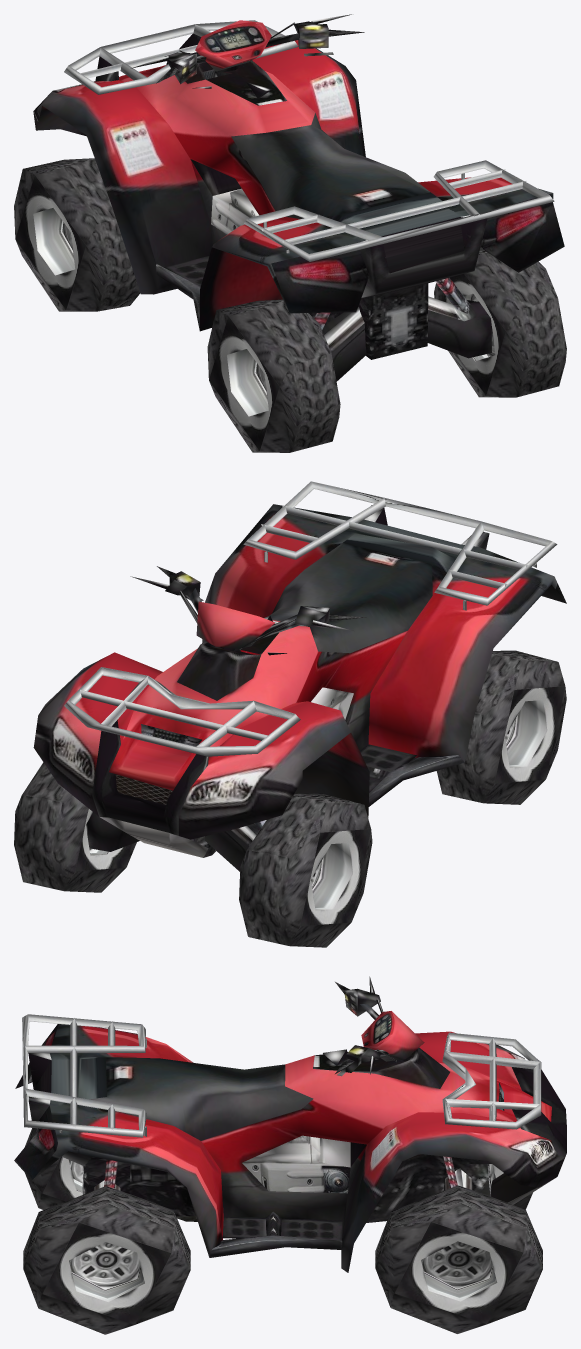
Rendered from ATV0.3.glb.
3 renders of one model, top to bottom at view 1: azimuth 30°, elevation 25°; view 2: azimuth 150°, elevation 25°; view 3: azimuth 270°, elevation 25°, orthographic. The views are drawn at different scales.
Parts seen in each view (by area): view 1: ATV; view 2: ATV; view 3: ATV.
Boxes of the visible parts, x1,y1,x2,y2 form: ATV: (14, 14, 566, 452); ATV: (14, 481, 566, 947); ATV: (14, 976, 566, 1334).
Bounding box in the file's own units: 1.43 × 1.34 × 2.63.
1 material, 1 textured.
